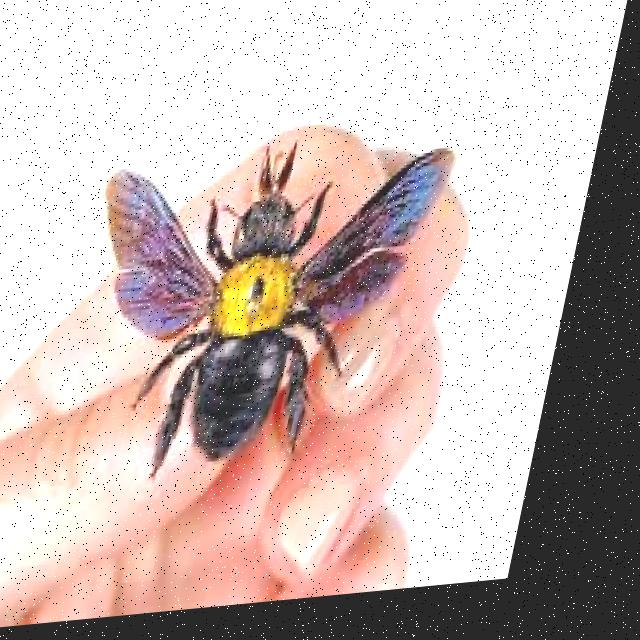Xylocopa: (60, 98, 479, 500)
